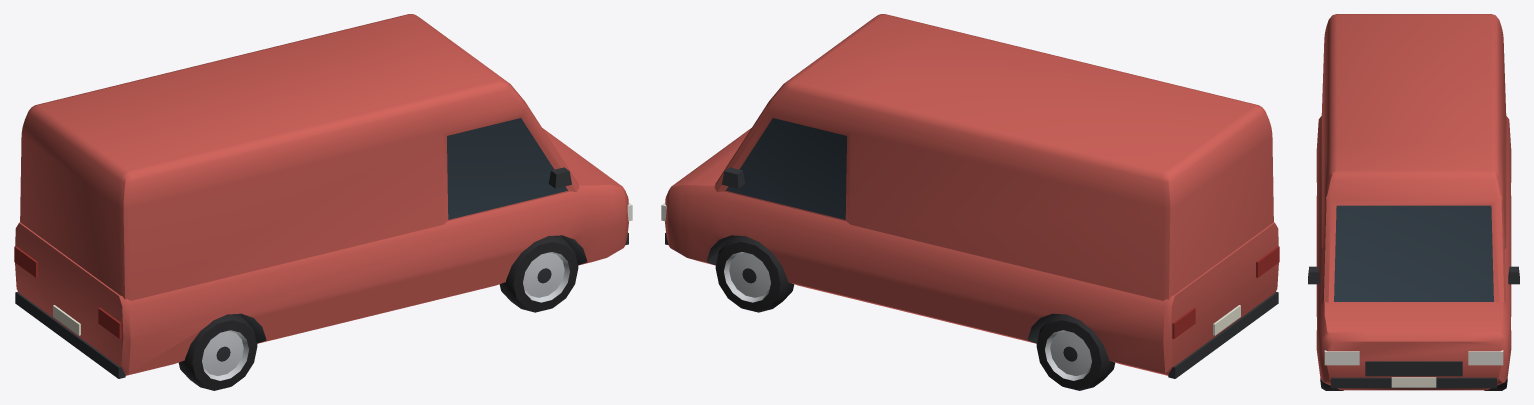
The model's file is van.glb.
3 views of the same model, side by side, from view 1: azimuth 30°, elevation 25°; view 2: azimuth 150°, elevation 25°; view 3: azimuth 270°, elevation 25° (orthographic). The views are drawn at different scales.
Visible parts, largest first — view 1: van; view 2: van; view 3: van.
Boxes of the visible parts, x1=… form: van: x1=14, y1=14, x2=632, y2=390; van: x1=661, y1=14, x2=1279, y2=390; van: x1=1308, y1=14, x2=1519, y2=390.
Bounding box in the file's own units: 5.26 × 2.29 × 2.18.
